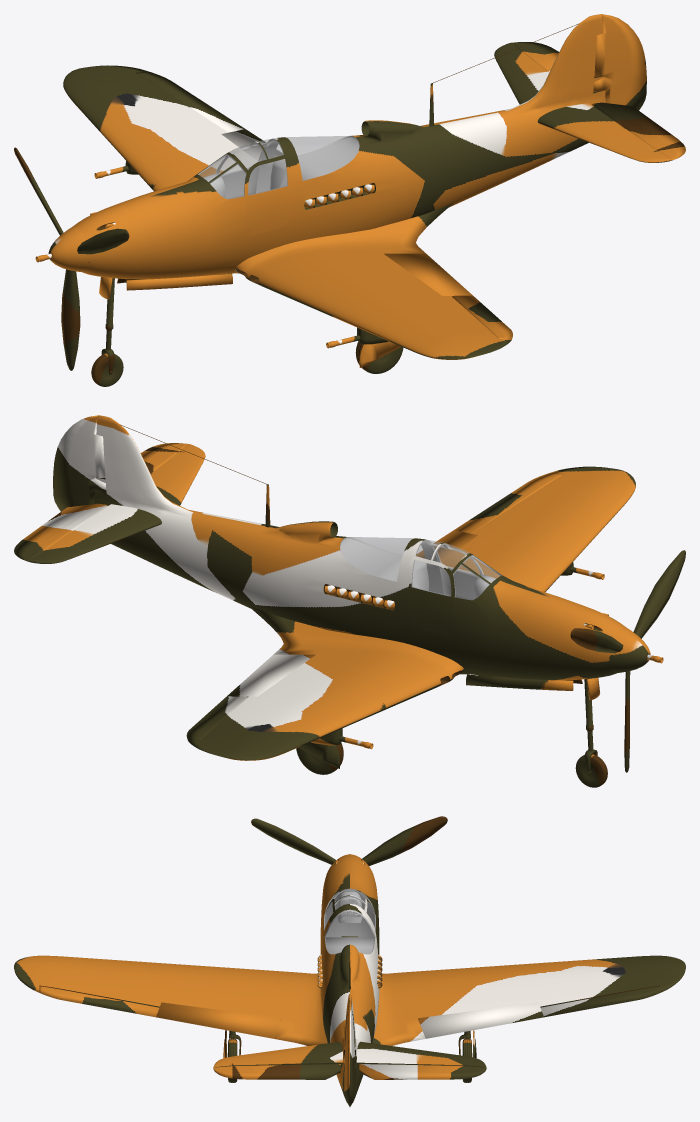
3 views of the same model, one above another, from view 1: azimuth 30°, elevation 25°; view 2: azimuth 150°, elevation 25°; view 3: azimuth 270°, elevation 25° (orthographic). The views are drawn at different scales.
Visible parts, largest first — view 1: fuselage_fuselage.mesh, ailes_ailes.mesh, ailes2_ailes2.mesh, vitres_vitres.mesh, direction_direction.mesh, helice_helice.mesh, profondeur_profondeur.mesh, planchet_planchet.mesh, porteG_porteG.mesh, voletG_voletG.mesh, aileronD_aileronD.mesh, bol_bol.mesh (+12 smaller); view 2: fuselage_fuselage.mesh, ailes_ailes.mesh, ailes2_ailes2.mesh, vitres_vitres.mesh, direction_direction.mesh, helice_helice.mesh, profondeur_profondeur.mesh, planchet_planchet.mesh, porteD_porteD.mesh, voletD_voletD.mesh, aileronG_aileronG.mesh, bol_bol.mesh (+12 smaller); view 3: ailes_ailes.mesh, fuselage_fuselage.mesh, ailes2_ailes2.mesh, profondeur_profondeur.mesh, helice_helice.mesh, voletG_voletG.mesh, voletD_voletD.mesh, vitres_vitres.mesh, aileronG_aileronG.mesh, aileronD_aileronD.mesh, interieur_interieur.mesh, trous_trous.mesh (+2 smaller).
Part boxes in pixels (x1,y1,x2,y2): fuselage_fuselage.mesh: (72, 14, 605, 279); ailes_ailes.mesh: (63, 65, 512, 359); ailes2_ailes2.mesh: (494, 42, 671, 162); vitres_vitres.mesh: (198, 135, 359, 198); direction_direction.mesh: (593, 14, 646, 110); helice_helice.mesh: (14, 147, 129, 370); profondeur_profondeur.mesh: (512, 42, 685, 160); planchet_planchet.mesh: (270, 137, 359, 189); porteG_porteG.mesh: (246, 157, 290, 234); voletG_voletG.mesh: (384, 253, 472, 296); aileronD_aileronD.mesh: (136, 71, 244, 132); bol_bol.mesh: (48, 226, 89, 271); fuselage_fuselage.mesh: (94, 415, 626, 680); ailes_ailes.mesh: (187, 466, 635, 760); ailes2_ailes2.mesh: (28, 444, 205, 563); vitres_vitres.mesh: (340, 537, 500, 599); direction_direction.mesh: (53, 415, 106, 511); helice_helice.mesh: (570, 550, 685, 772); profondeur_profondeur.mesh: (14, 443, 187, 561); planchet_planchet.mesh: (340, 538, 428, 590); porteD_porteD.mesh: (408, 558, 452, 635); voletD_voletD.mesh: (227, 654, 315, 697); aileronG_aileronG.mesh: (454, 472, 563, 533); bol_bol.mesh: (609, 627, 650, 672); ailes_ailes.mesh: (14, 955, 685, 1045); fuselage_fuselage.mesh: (320, 855, 379, 1094); ailes2_ailes2.mesh: (213, 1041, 486, 1067); profondeur_profondeur.mesh: (213, 1064, 486, 1079); helice_helice.mesh: (251, 816, 447, 865); voletG_voletG.mesh: (156, 1002, 281, 1038); voletD_voletD.mesh: (418, 1002, 543, 1038); vitres_vitres.mesh: (325, 889, 374, 953); aileronG_aileronG.mesh: (39, 986, 159, 1017); aileronD_aileronD.mesh: (540, 986, 660, 1017); interieur_interieur.mesh: (324, 890, 375, 952); trous_trous.mesh: (39, 859, 660, 1098).
Bounding box in the file's own units: 9.28 × 3.66 × 10.38.
